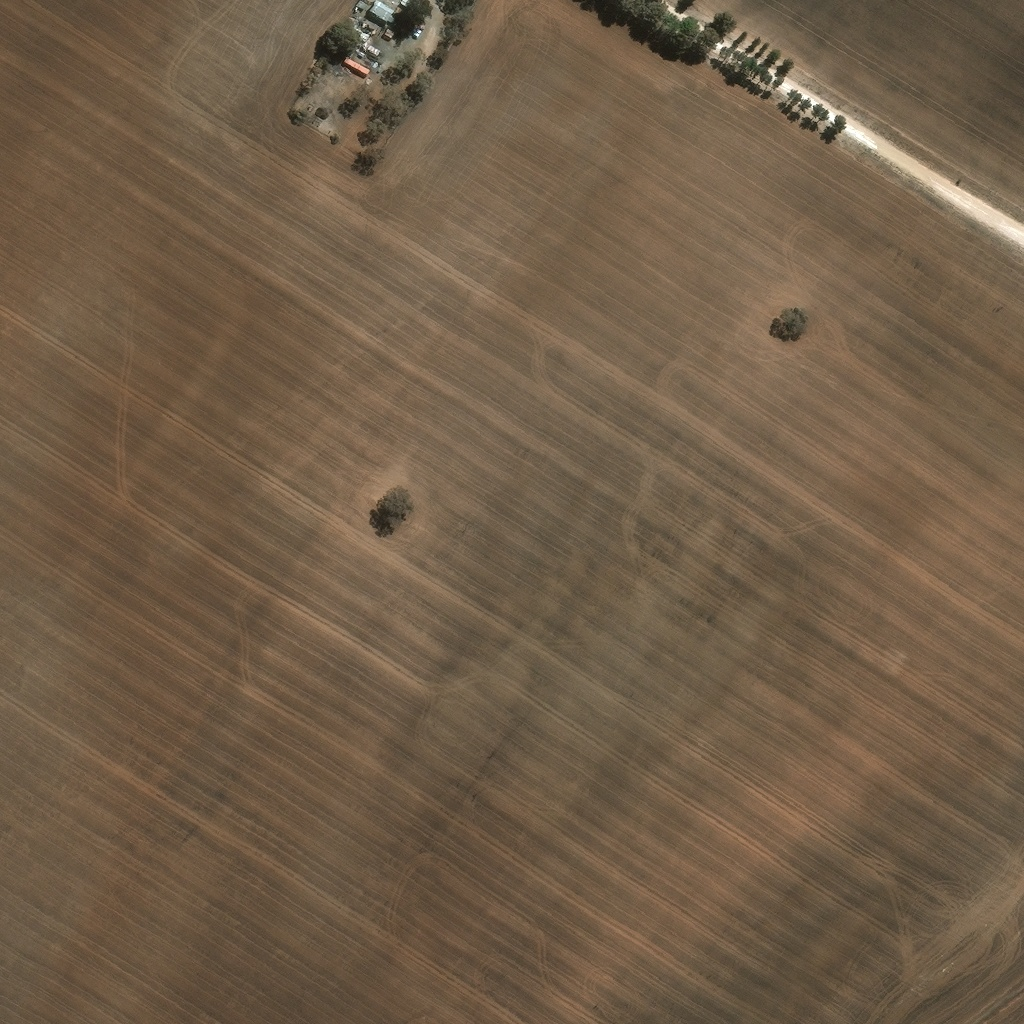0 no-damage: (368, 4, 395, 28), (342, 59, 370, 79), (354, 0, 370, 14)
2 major-damage: (345, 18, 385, 51), (341, 31, 380, 61)
4 un-classified: (376, 0, 401, 12), (399, 0, 419, 12)
